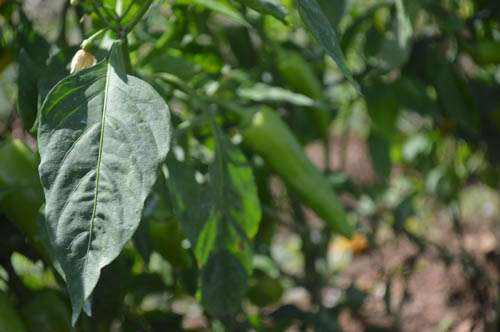ChiliPepper: (242, 105, 352, 235), (2, 139, 48, 255), (276, 55, 328, 129), (148, 216, 186, 266)
